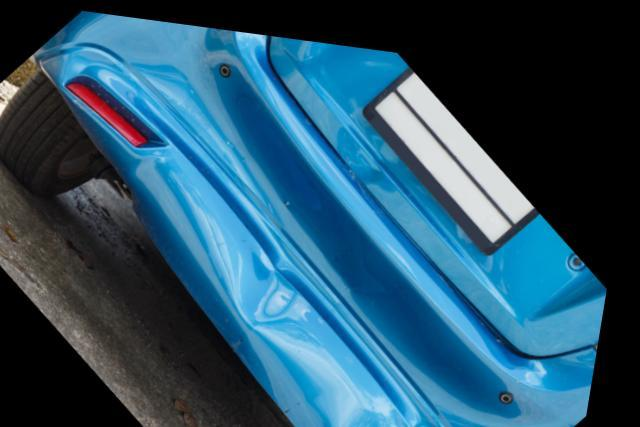dent: (65, 11, 601, 427), (247, 240, 337, 335), (357, 395, 435, 427)
